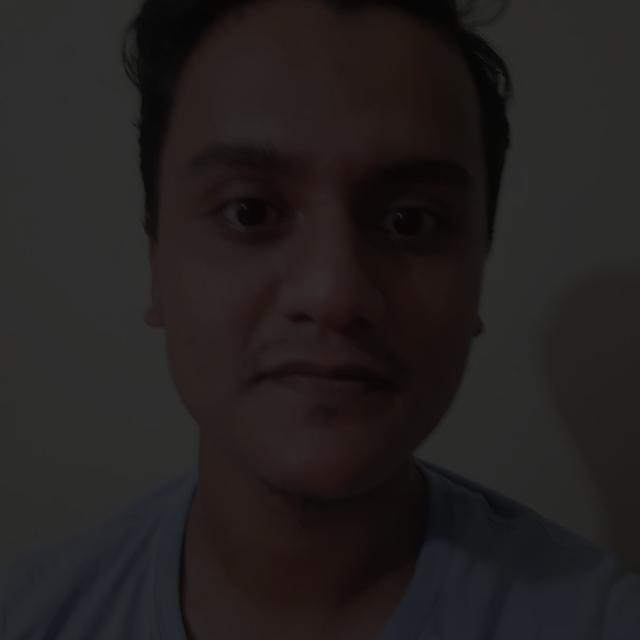Happy: (117, 60, 624, 482)
